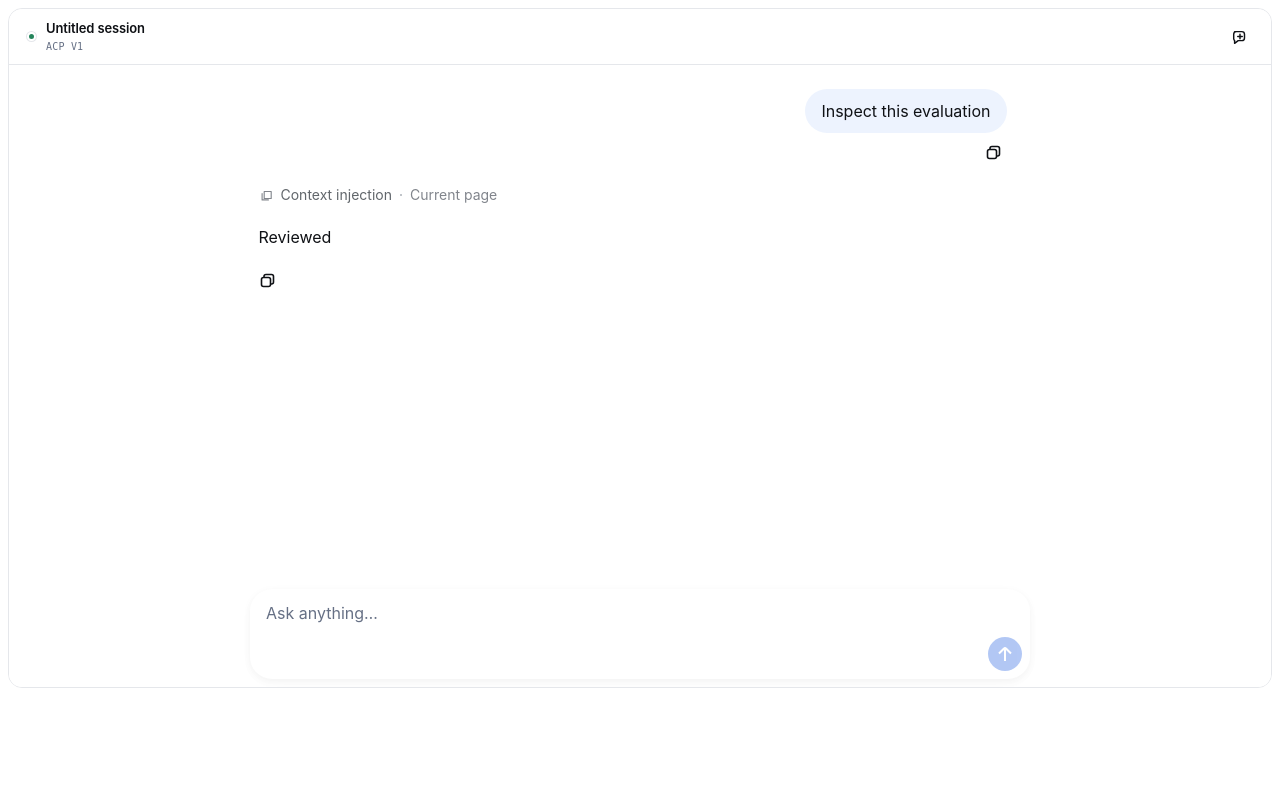
Test case: Transcript › shows submitted context as a collapsed inert disclosure
Expected: the text "Context injection" is shown, 280,183 -> 392,207
Expected: the text "Current page" is shown, 410,186 -> 497,203
Click the heading "Context injection Current page" at (378, 194), box 260,186 -> 497,203
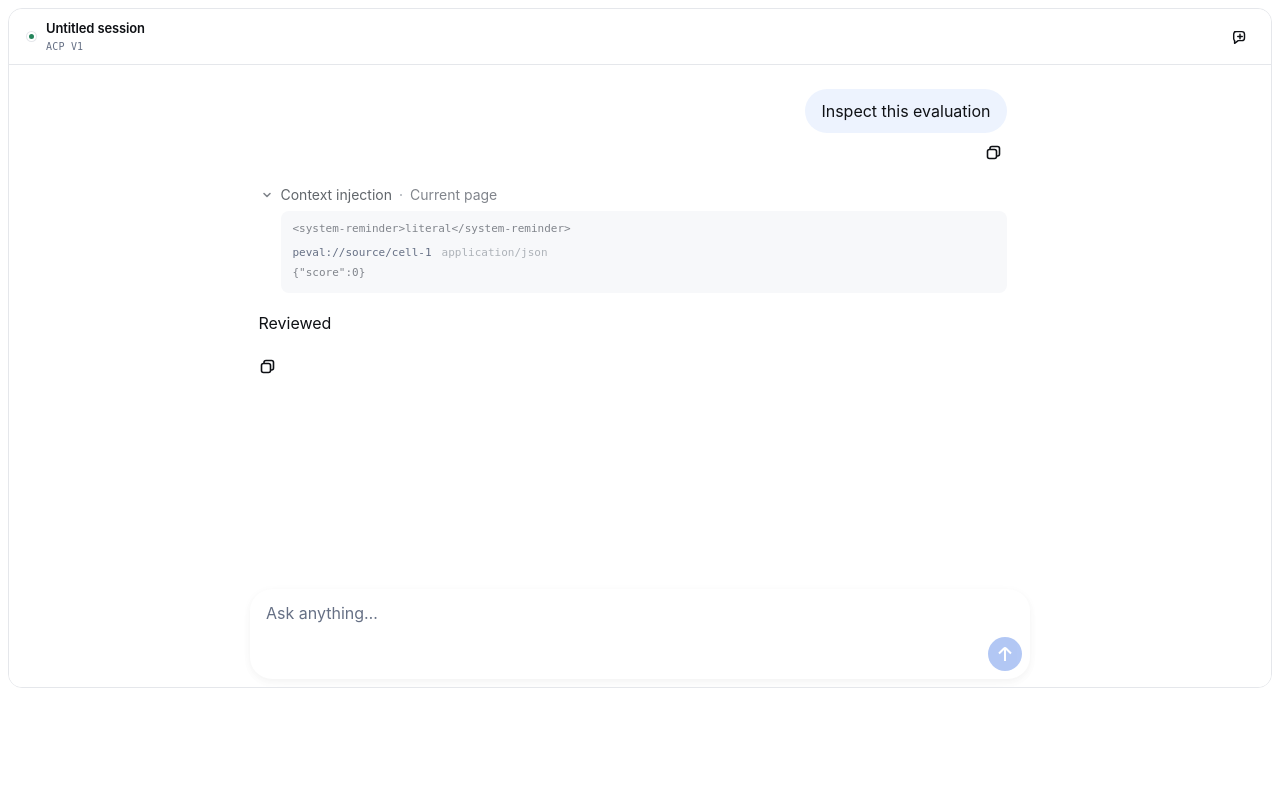
Expected: the text "<system-reminder>literal</system-reminder>" is shown, 292,222 -> 571,235
Expected: the text "peval://source/cell-1" is shown, 292,245 -> 432,261
Expected: the text "application/json" is shown, 442,245 -> 548,261
